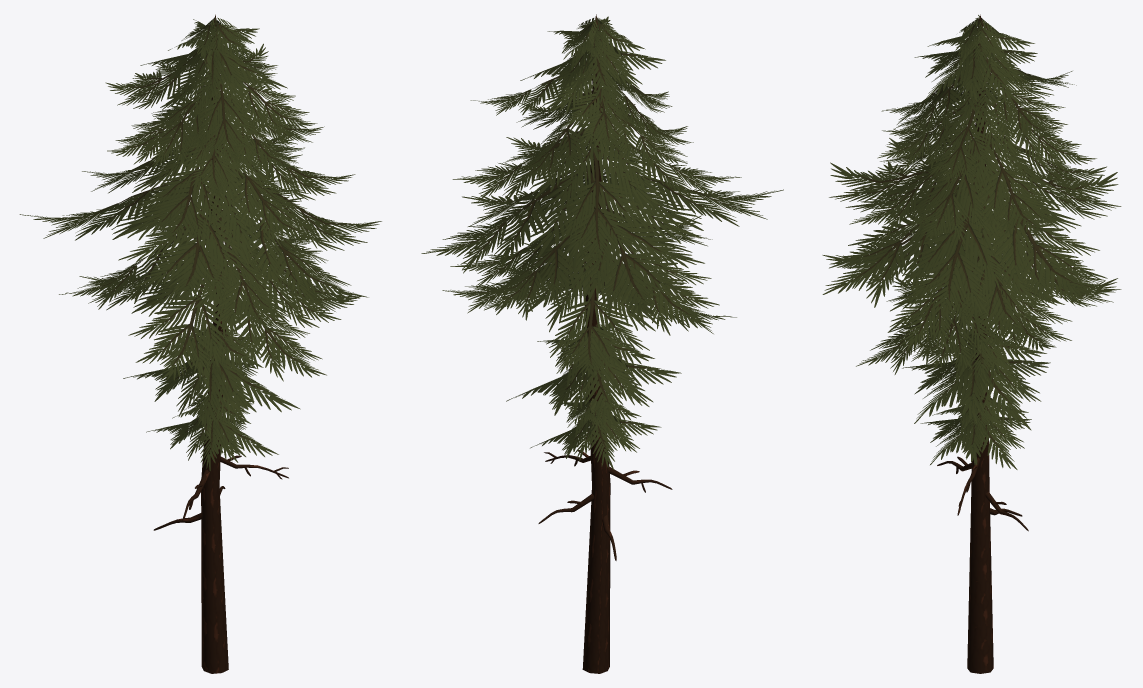
Rendered from pine_tree_2.glb.
3 views of the same model, side by side, from view 1: azimuth 30°, elevation 25°; view 2: azimuth 150°, elevation 25°; view 3: azimuth 270°, elevation 25° (orthographic).
Visible parts, largest first — view 1: PineTree_22; view 2: PineTree_22; view 3: PineTree_22.
Part boxes in pixels (x1,y1,x2,y2): PineTree_22: (19, 14, 381, 673); PineTree_22: (421, 14, 783, 673); PineTree_22: (822, 14, 1121, 673).
Size of the model in its own units: 3.28 by 6.91 by 2.98.
2 materials, 2 textured.
